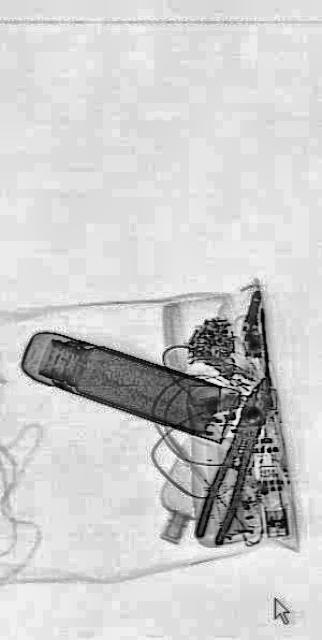Pliers: (192, 361, 278, 561)
